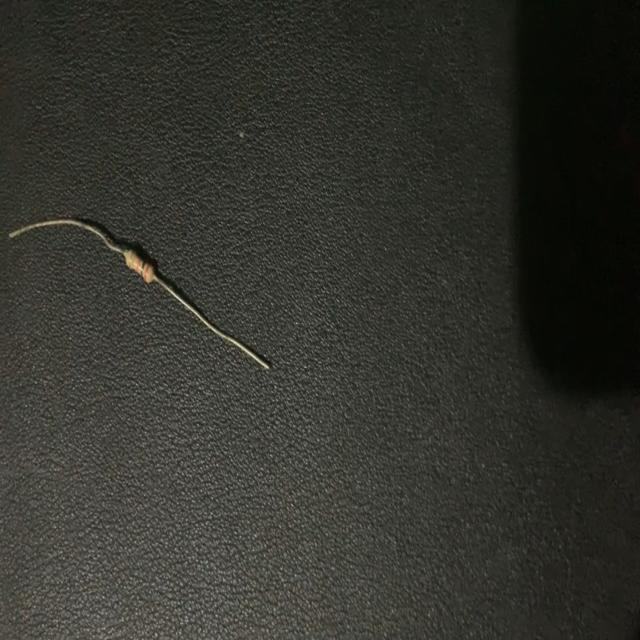resistor: (8, 209, 284, 385)
